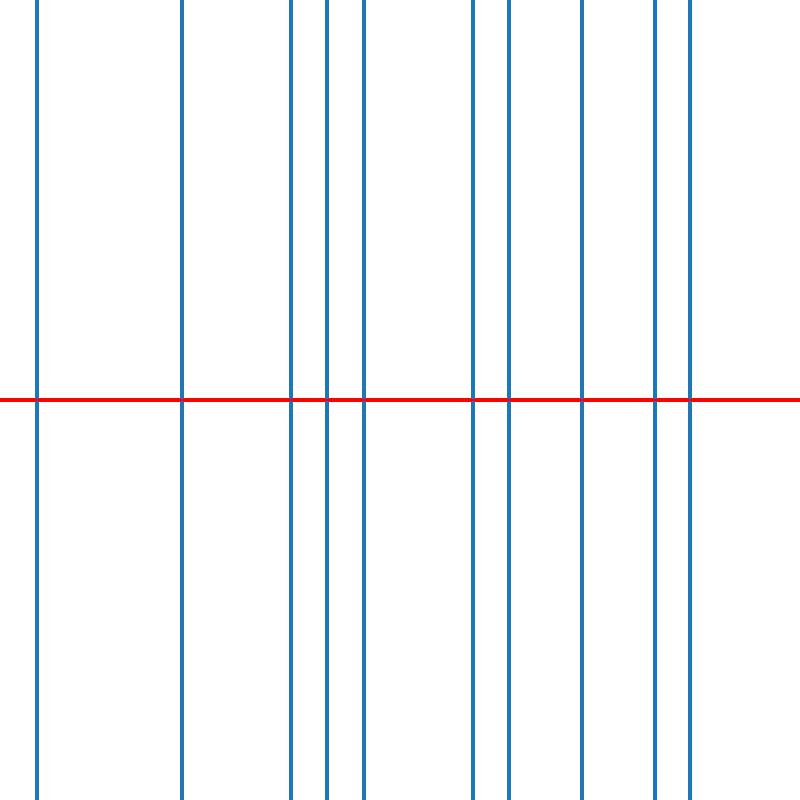root: (32, 396, 40, 404), (650, 396, 658, 404), (287, 396, 294, 404), (687, 396, 694, 404), (505, 396, 512, 404), (360, 396, 367, 404), (469, 396, 476, 404), (323, 396, 330, 404), (578, 396, 585, 404), (178, 396, 185, 404)
